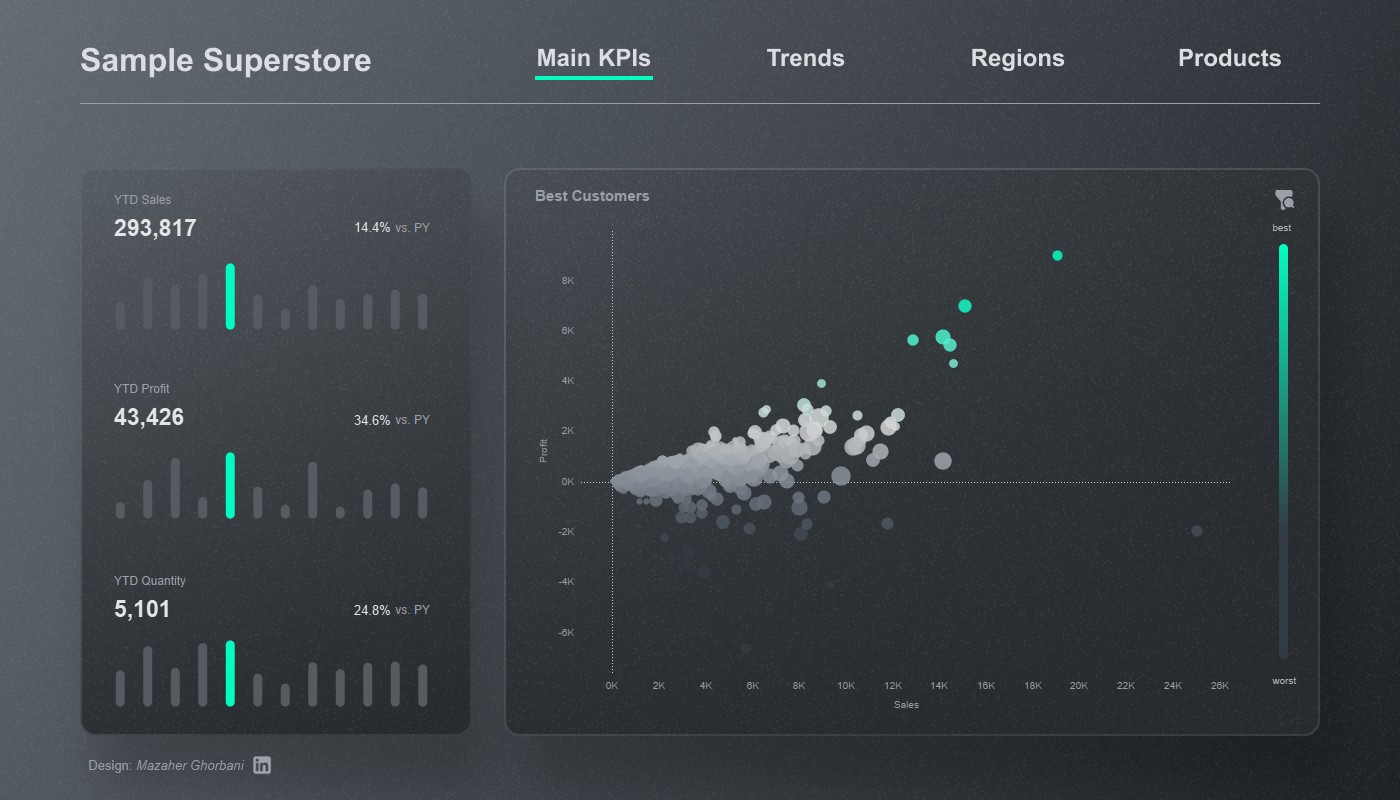

The page's visual inventory and layout, read from the dashboard file:
{"tool":"tableau","page":{"name":"Main KPIs","canvas":[1400,800],"ordinal":0},"visuals":[{"type":"image","param":"Image/Main KPIs.png","box":[0,0,1400,800]},{"type":"dashboard-object","box":[1160,136,24,24]},{"type":"worksheet","title":"Reset Filters","mark":"Shape","cols":["Calculation_707909609538879489"],"box":[1216,136,24,24]},{"type":"dashboard-object","box":[1272,136,24,24]},{"type":"filter","title":"Sales","param":"[federated.0edz2lz09zrftf18khcru1ptet20].[none:Category:nk]","box":[1120,181,174,54]},{"type":"dashboard-object","box":[64,200,100,64]},{"type":"worksheet","title":"YTD Sales","mark":"Text","box":[217,219,144,70]},{"type":"worksheet","title":"YTD Profit","mark":"Text","box":[597,219,144,70]},{"type":"worksheet","title":"YTD Quantity","mark":"Text","box":[977,219,170,70]},{"type":"filter","title":"Sales","param":"[federated.0edz2lz09zrftf18khcru1ptet20].[none:Sub-Category:nk]","box":[1120,235,174,54]},{"type":"text","box":[356,247,56,30]},{"type":"text","box":[732,247,56,30]},{"type":"text","box":[1101,247,56,30]},{"type":"worksheet","title":"YOY Sales","mark":"Automatic","rows":["Order Date"],"box":[296,253,76,26]},{"type":"worksheet","title":"YOY Profit","mark":"Automatic","rows":["Order Date"],"box":[671,253,76,26]},{"type":"worksheet","title":"YOY Quantity","mark":"Automatic","rows":["Order Date"],"box":[1038,253,76,26]},{"type":"dashboard-object","box":[64,264,100,64]},{"type":"filter","title":"Sales","param":"[federated.0edz2lz09zrftf18khcru1ptet20].[none:State/Province:nk]","box":[1120,289,174,54]},{"type":"worksheet","title":"Sales","mark":"Line","cols":["Order Date"],"box":[219,321,303,96]},{"type":"worksheet","title":"Profit","mark":"Line","cols":["Order Date"],"box":[598,321,303,96]},{"type":"worksheet","title":"Quantity","mark":"Line","cols":["Order Date"],"box":[979,321,303,96]},{"type":"dashboard-object","box":[64,328,100,64]},{"type":"filter","title":"Sales","param":"[federated.0edz2lz09zrftf18khcru1ptet20].[none:City:nk]","box":[1120,343,174,54]},{"type":"dashboard-object","box":[64,392,100,64]},{"type":"filter","title":"Sales","param":"[federated.0edz2lz09zrftf18khcru1ptet20].[none:Segment:nk]","box":[1120,397,174,54]},{"type":"blank","box":[244,398,254,27]},{"type":"blank","box":[624,398,254,27]},{"type":"blank","box":[1005,402,254,27]},{"type":"dashboard-object","box":[64,456,100,64]},{"type":"worksheet","title":"Scatter","mark":"Automatic","rows":["Total Sales (copy)_1713056751226064918"],"cols":["Calculation_1713056751028776960"],"box":[215,486,618,204]},{"type":"worksheet","title":"Segment Sales","mark":"Pie","cols":["Calculation_1713056751349825580","Calculation_1713056751349841966"],"box":[981,493,297,190]},{"type":"text","box":[873,530,46,30]},{"type":"worksheet","title":"YTD Sales (2)","mark":"Text","box":[1101,589,88,51]},{"type":"text","box":[871,653,46,30]}]}

Visuals, with their boxes in screenshot pixels (x1, y1, x2, y2), scaled from the page's 1400x800 canvas onto the 1400x800 screenshot:
image: [0,0,1399,799]
dashboard-object: [1160,136,1184,160]
"Reset Filters" worksheet (Shape marks): [1216,136,1240,160]
dashboard-object: [1272,136,1296,160]
"Sales" filter: [1120,181,1294,235]
dashboard-object: [64,200,164,264]
"YTD Sales" worksheet (Text marks): [217,219,361,289]
"YTD Profit" worksheet (Text marks): [597,219,741,289]
"YTD Quantity" worksheet (Text marks): [977,219,1147,289]
"Sales" filter: [1120,235,1294,289]
text: [356,247,412,277]
text: [732,247,788,277]
text: [1101,247,1157,277]
"YOY Sales" worksheet: [296,253,372,279]
"YOY Profit" worksheet: [671,253,747,279]
"YOY Quantity" worksheet: [1038,253,1114,279]
dashboard-object: [64,264,164,328]
"Sales" filter: [1120,289,1294,343]
"Sales" worksheet (Line marks): [219,321,522,417]
"Profit" worksheet (Line marks): [598,321,901,417]
"Quantity" worksheet (Line marks): [979,321,1282,417]
dashboard-object: [64,328,164,392]
"Sales" filter: [1120,343,1294,397]
dashboard-object: [64,392,164,456]
"Sales" filter: [1120,397,1294,451]
blank: [244,398,498,425]
blank: [624,398,878,425]
blank: [1005,402,1259,429]
dashboard-object: [64,456,164,520]
"Scatter" worksheet: [215,486,833,690]
"Segment Sales" worksheet (Pie marks): [981,493,1278,683]
text: [873,530,919,560]
"YTD Sales (2)" worksheet (Text marks): [1101,589,1189,640]
text: [871,653,917,683]
